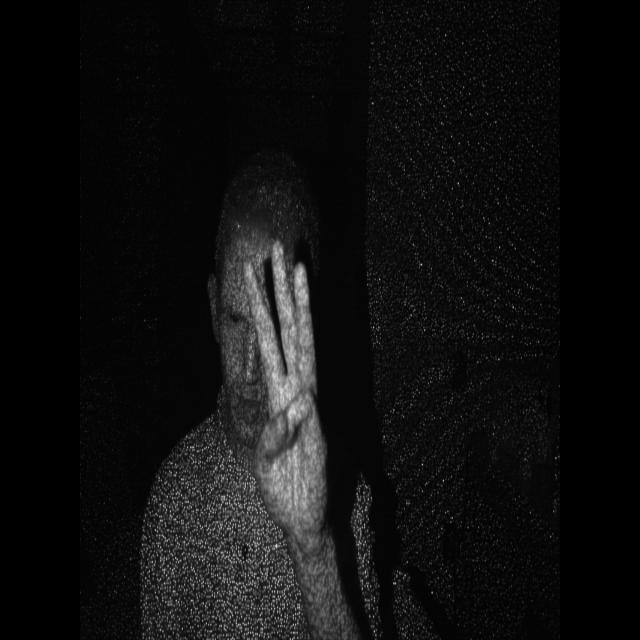W: (223, 235, 342, 545)
